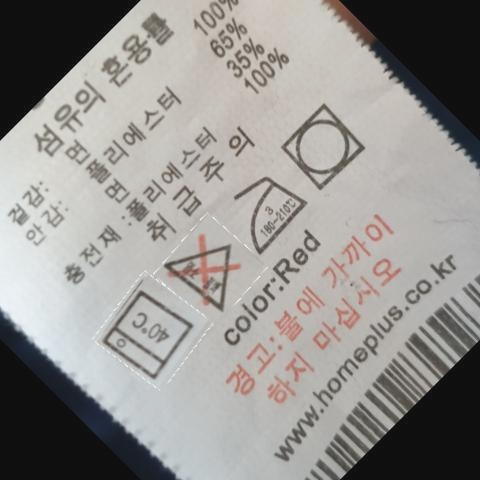40C: (110, 294, 195, 375)
iron_high: (241, 171, 307, 249)
non_chlorine_bleach: (171, 233, 245, 307)
tumble_dry_normal: (284, 100, 369, 193)
